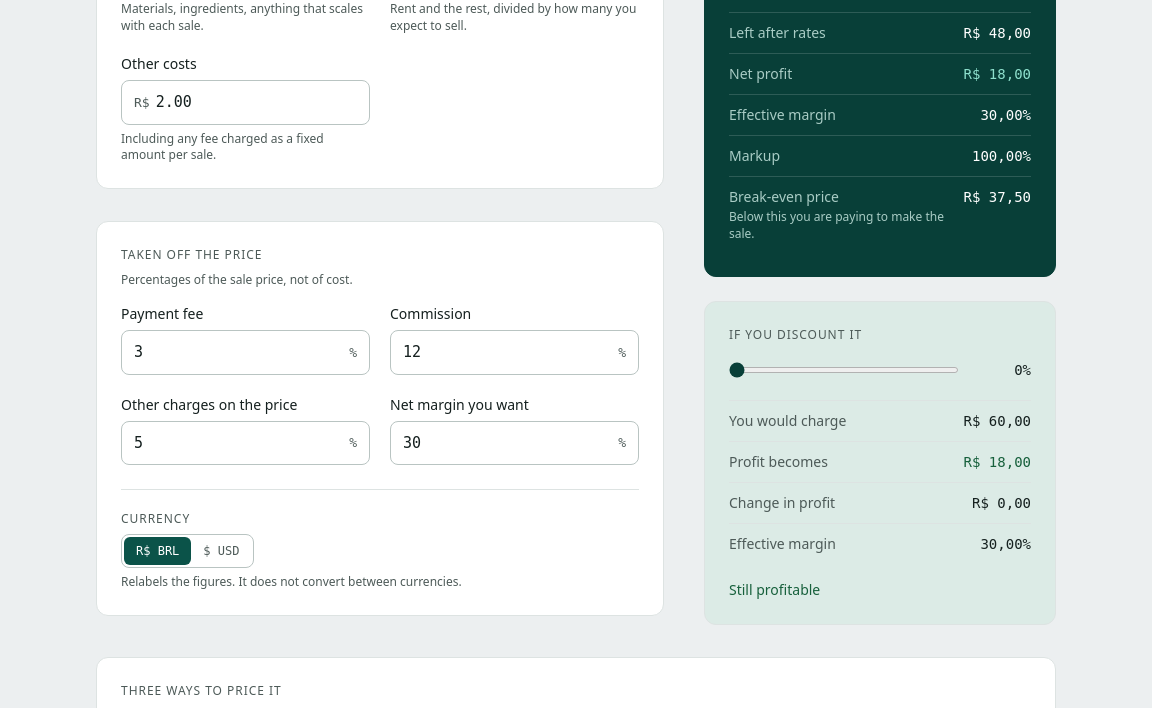
the history › cannot save while the result is unsolvable
(page scrolled)
Replace the text in the field labelled "Payment fee" with "100" at (239, 352), box x1=134 y1=331 x2=343 y2=374
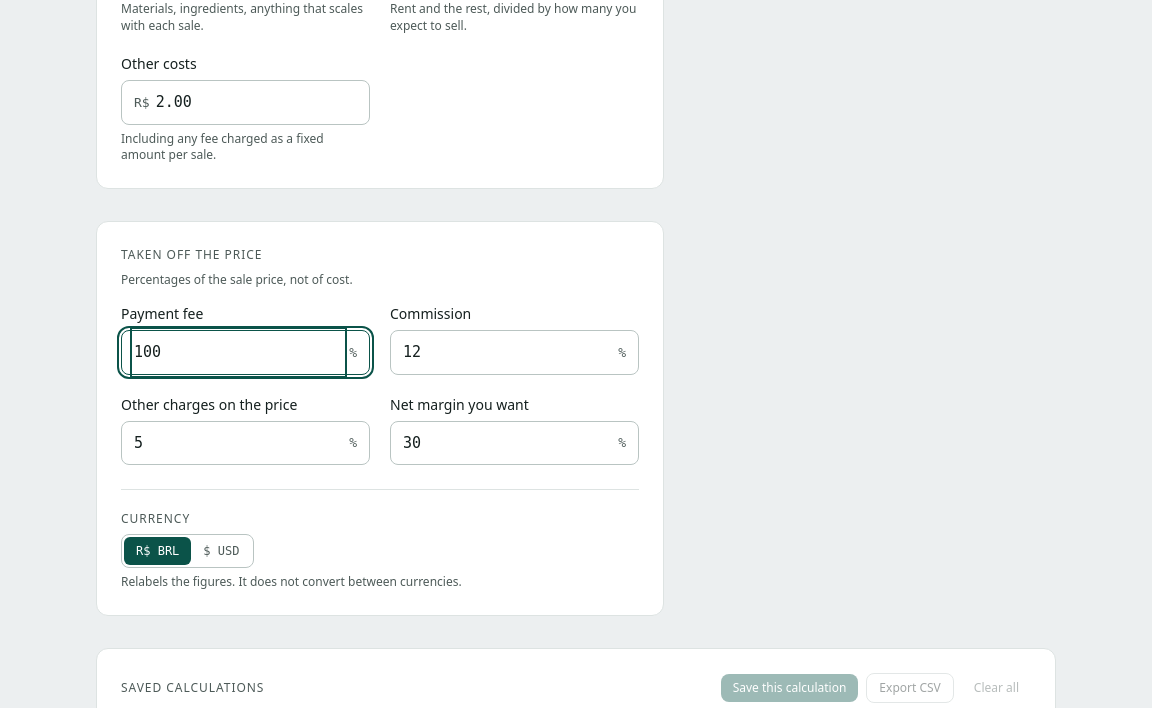
Check: the button "Save this calculation" is disabled, box x1=721 y1=674 x2=858 y2=702
